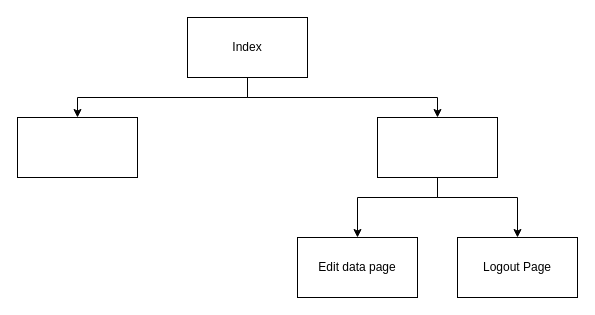
This 595x315 diagram has some shape labels left out. The shapes that lost their labels are listed below. From the top down, each one's centre as x and y in pixels, then its label:
the point at 77,147: Karyawan page
the point at 437,147: Admin Login Page
